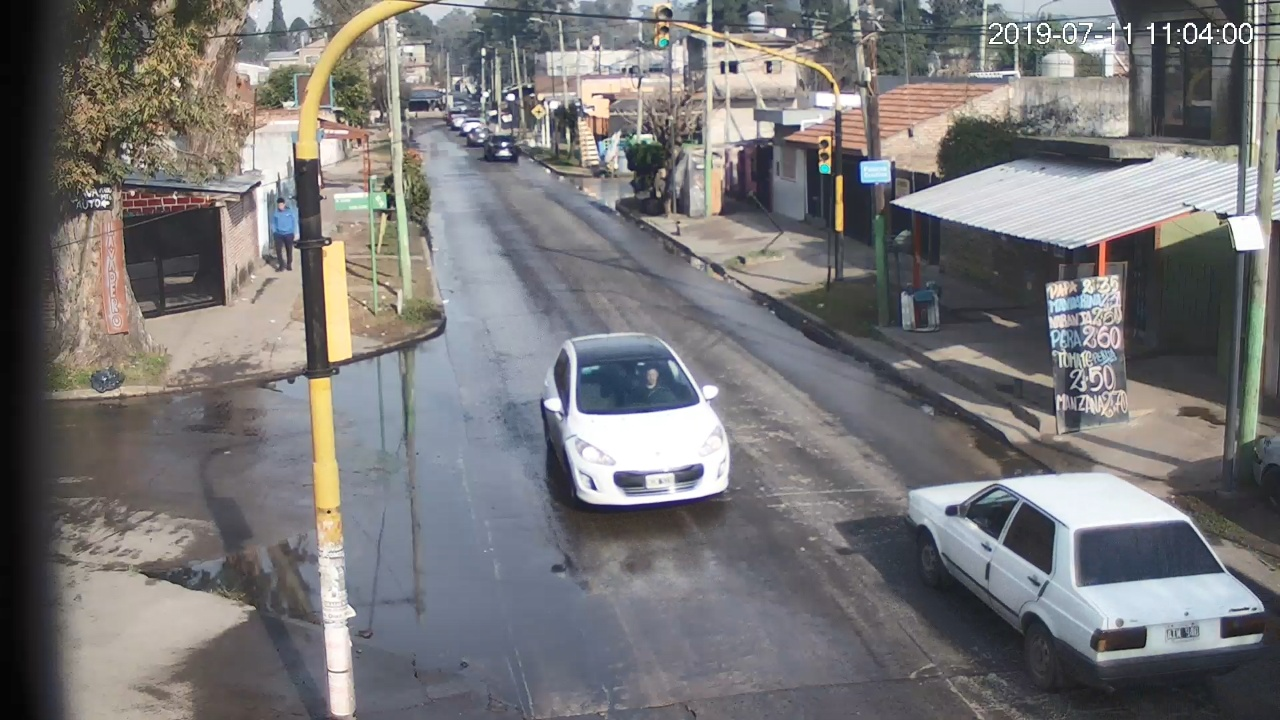car: (903, 472, 1280, 692)
front car: (540, 332, 731, 508)
traffic light: (656, 5, 671, 48), (819, 137, 832, 174)
